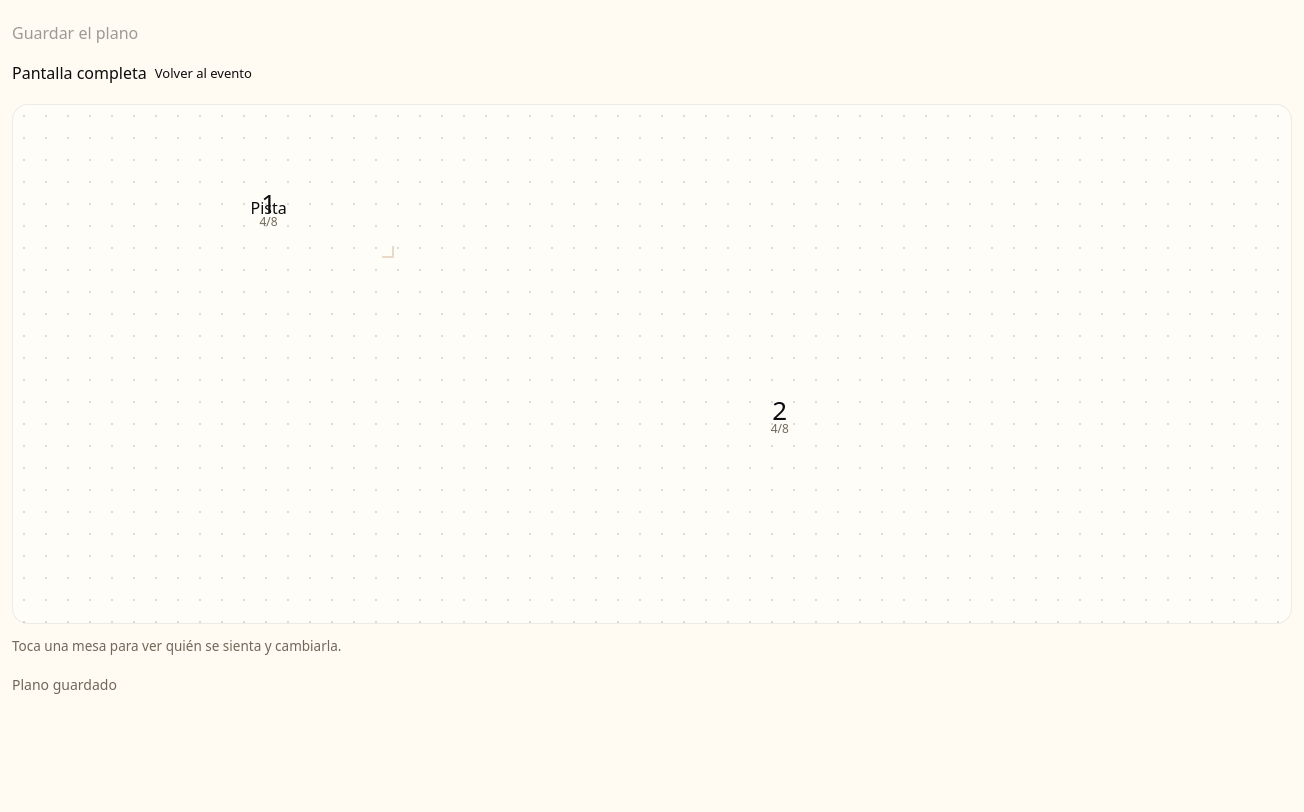
Test: FloorPlan › «Descartar» devuelve las marcas a su sitio y deshabilita el guardado
Press the mouse on the button named "Mesa 01" at (269, 209), box [231, 171, 307, 247]
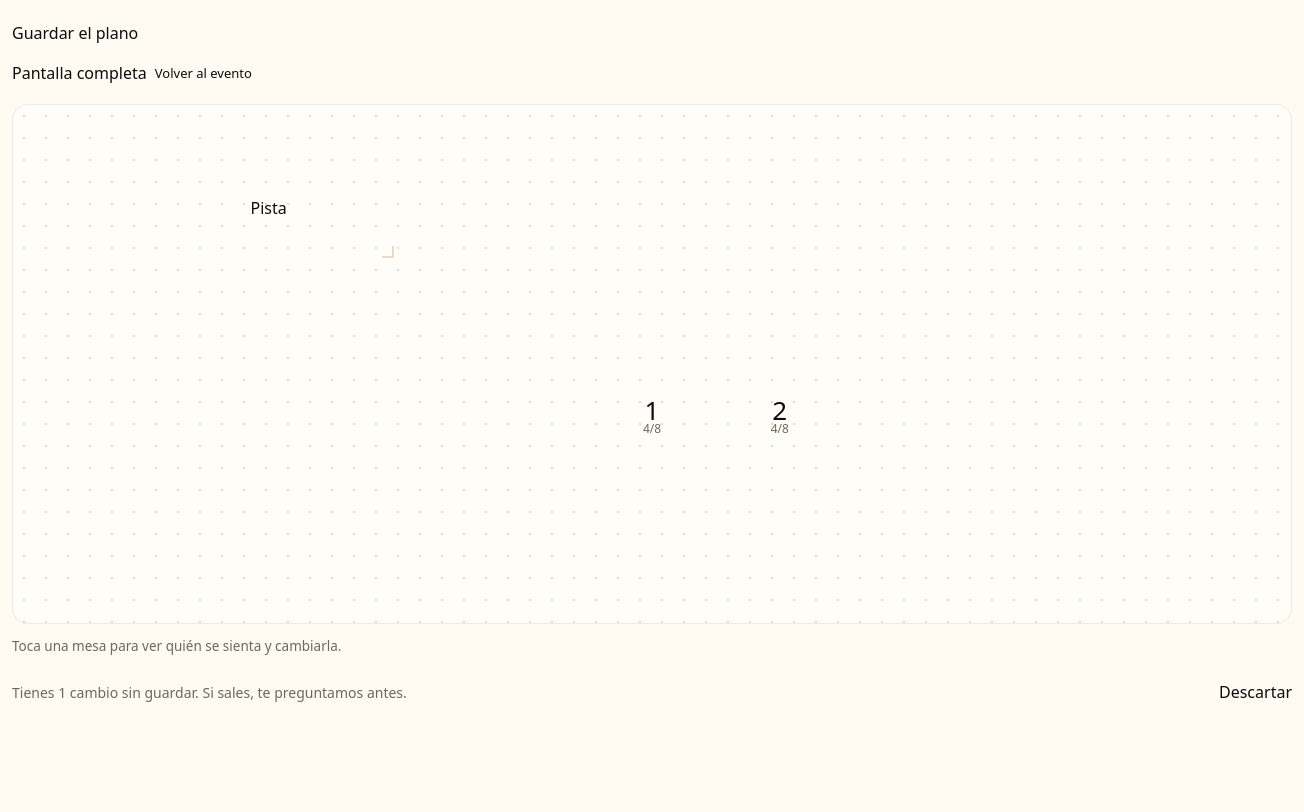
Click the button "Descartar".
click(1256, 693)  # box [1219, 674, 1292, 712]
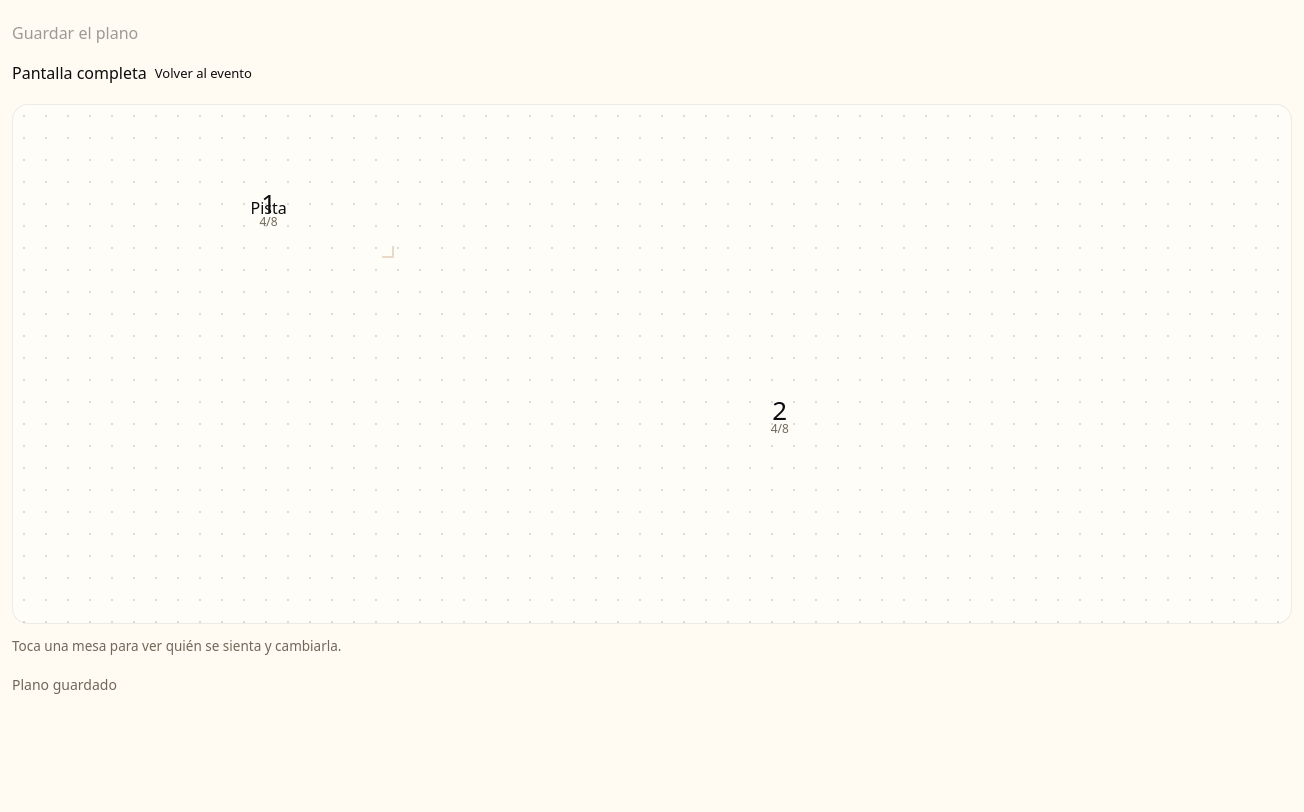
Expected: the button "Guardar el plano" is disabled, [12, 12, 138, 56]
